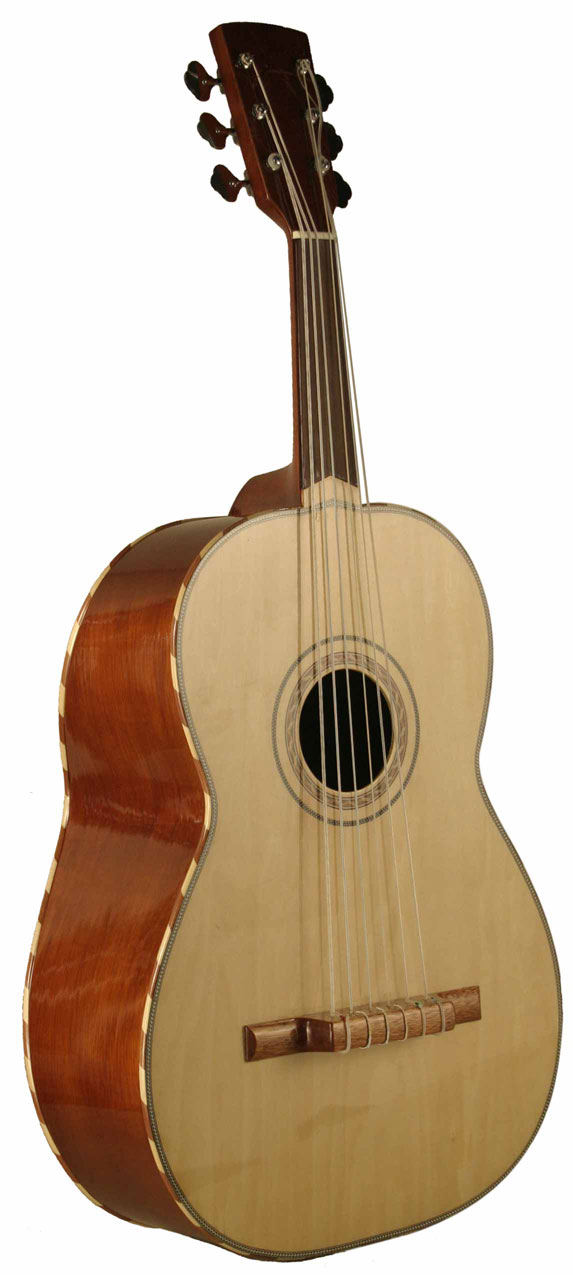guitar: (18, 17, 563, 1273)
